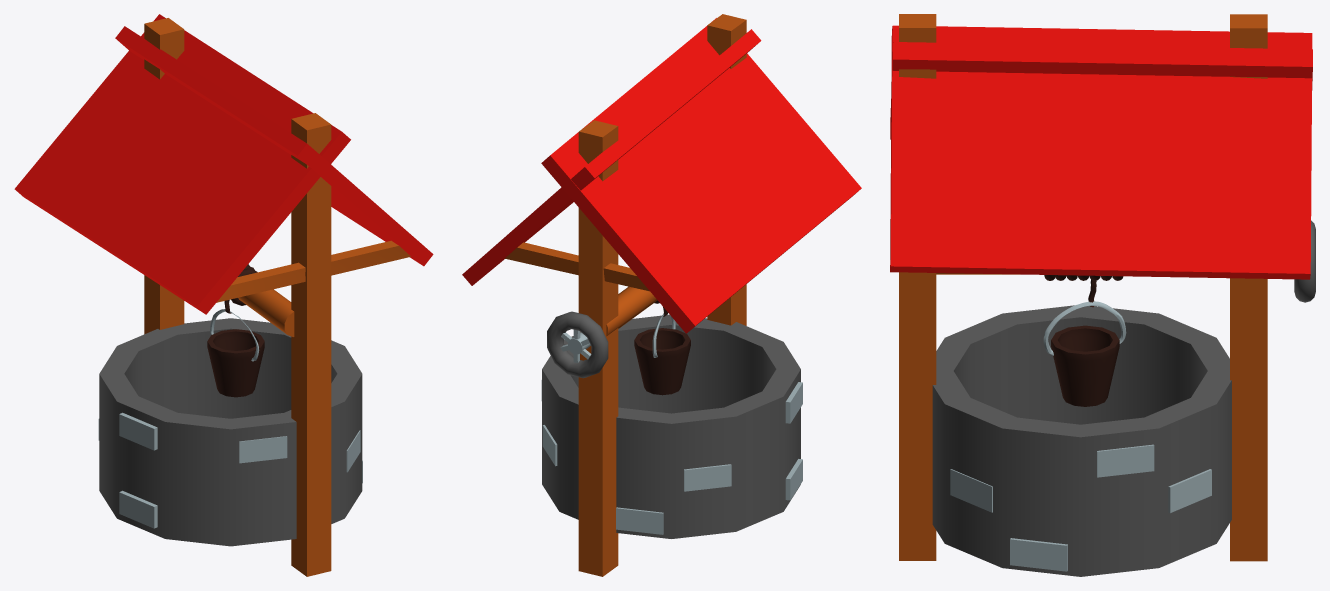
Rendered from Props_Well.fbx.
The picture shows the model from 3 angles, left to right: view 1: azimuth 30°, elevation 25°; view 2: azimuth 150°, elevation 25°; view 3: azimuth 270°, elevation 25°; orthographic projection. The views are drawn at different scales.
Parts seen in each view (by area): view 1: default; view 2: default; view 3: default.
Part boxes in pixels (box(x1,y1,x2,y2)): default: box(14, 14, 433, 576); default: box(462, 14, 861, 576); default: box(890, 14, 1315, 576).
Size of the model in its own units: 20.73 by 36.7 by 26.32.
